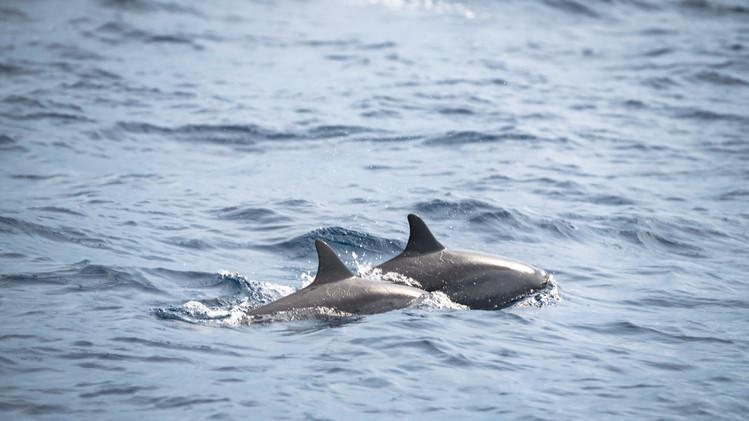fish: (372, 212, 564, 316), (240, 239, 432, 330)
